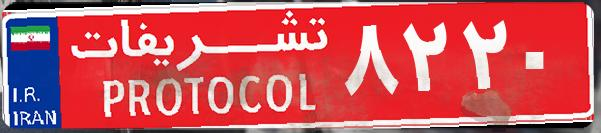0: (520, 20, 580, 115)
2: (400, 20, 460, 115), (460, 20, 520, 115)
8: (340, 20, 400, 115)
تشریفات: (60, 8, 340, 125)
